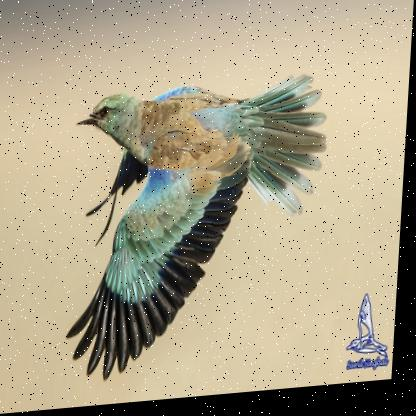Burung: (66, 74, 334, 384)
